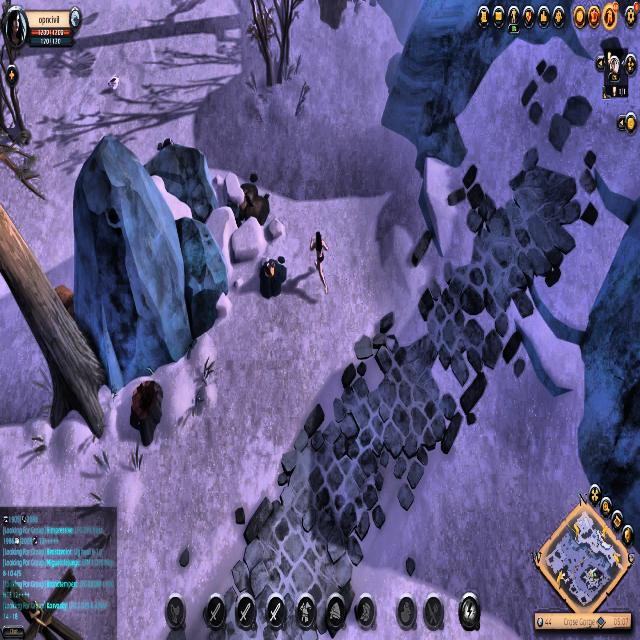copper_ore: (256, 250, 292, 306)
